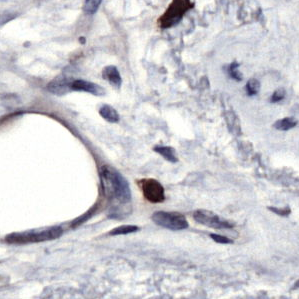Lymphocyte: (140, 179, 168, 203)
